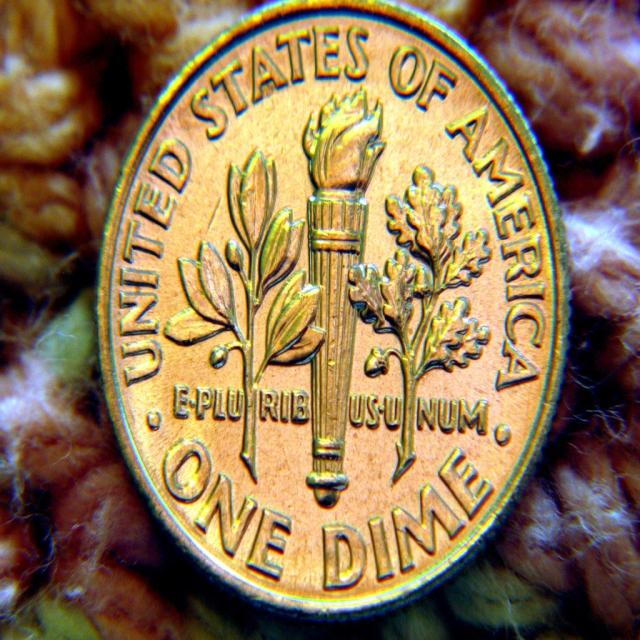Coin: (95, 0, 572, 617)
